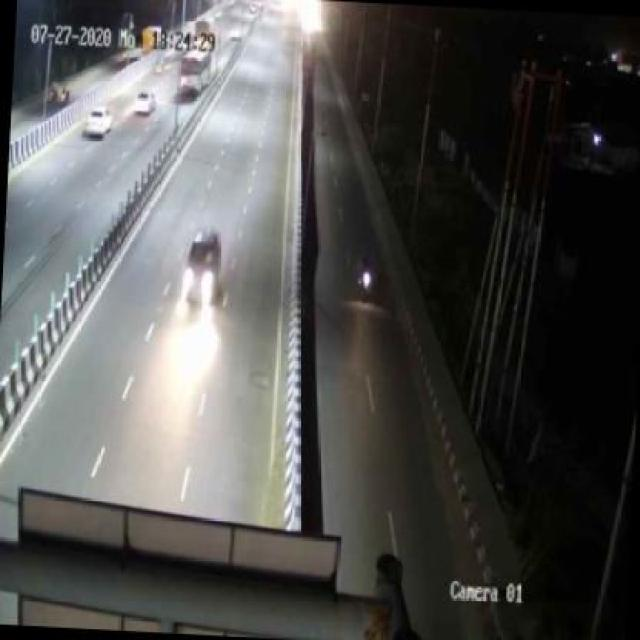car: (178, 226, 230, 319)
